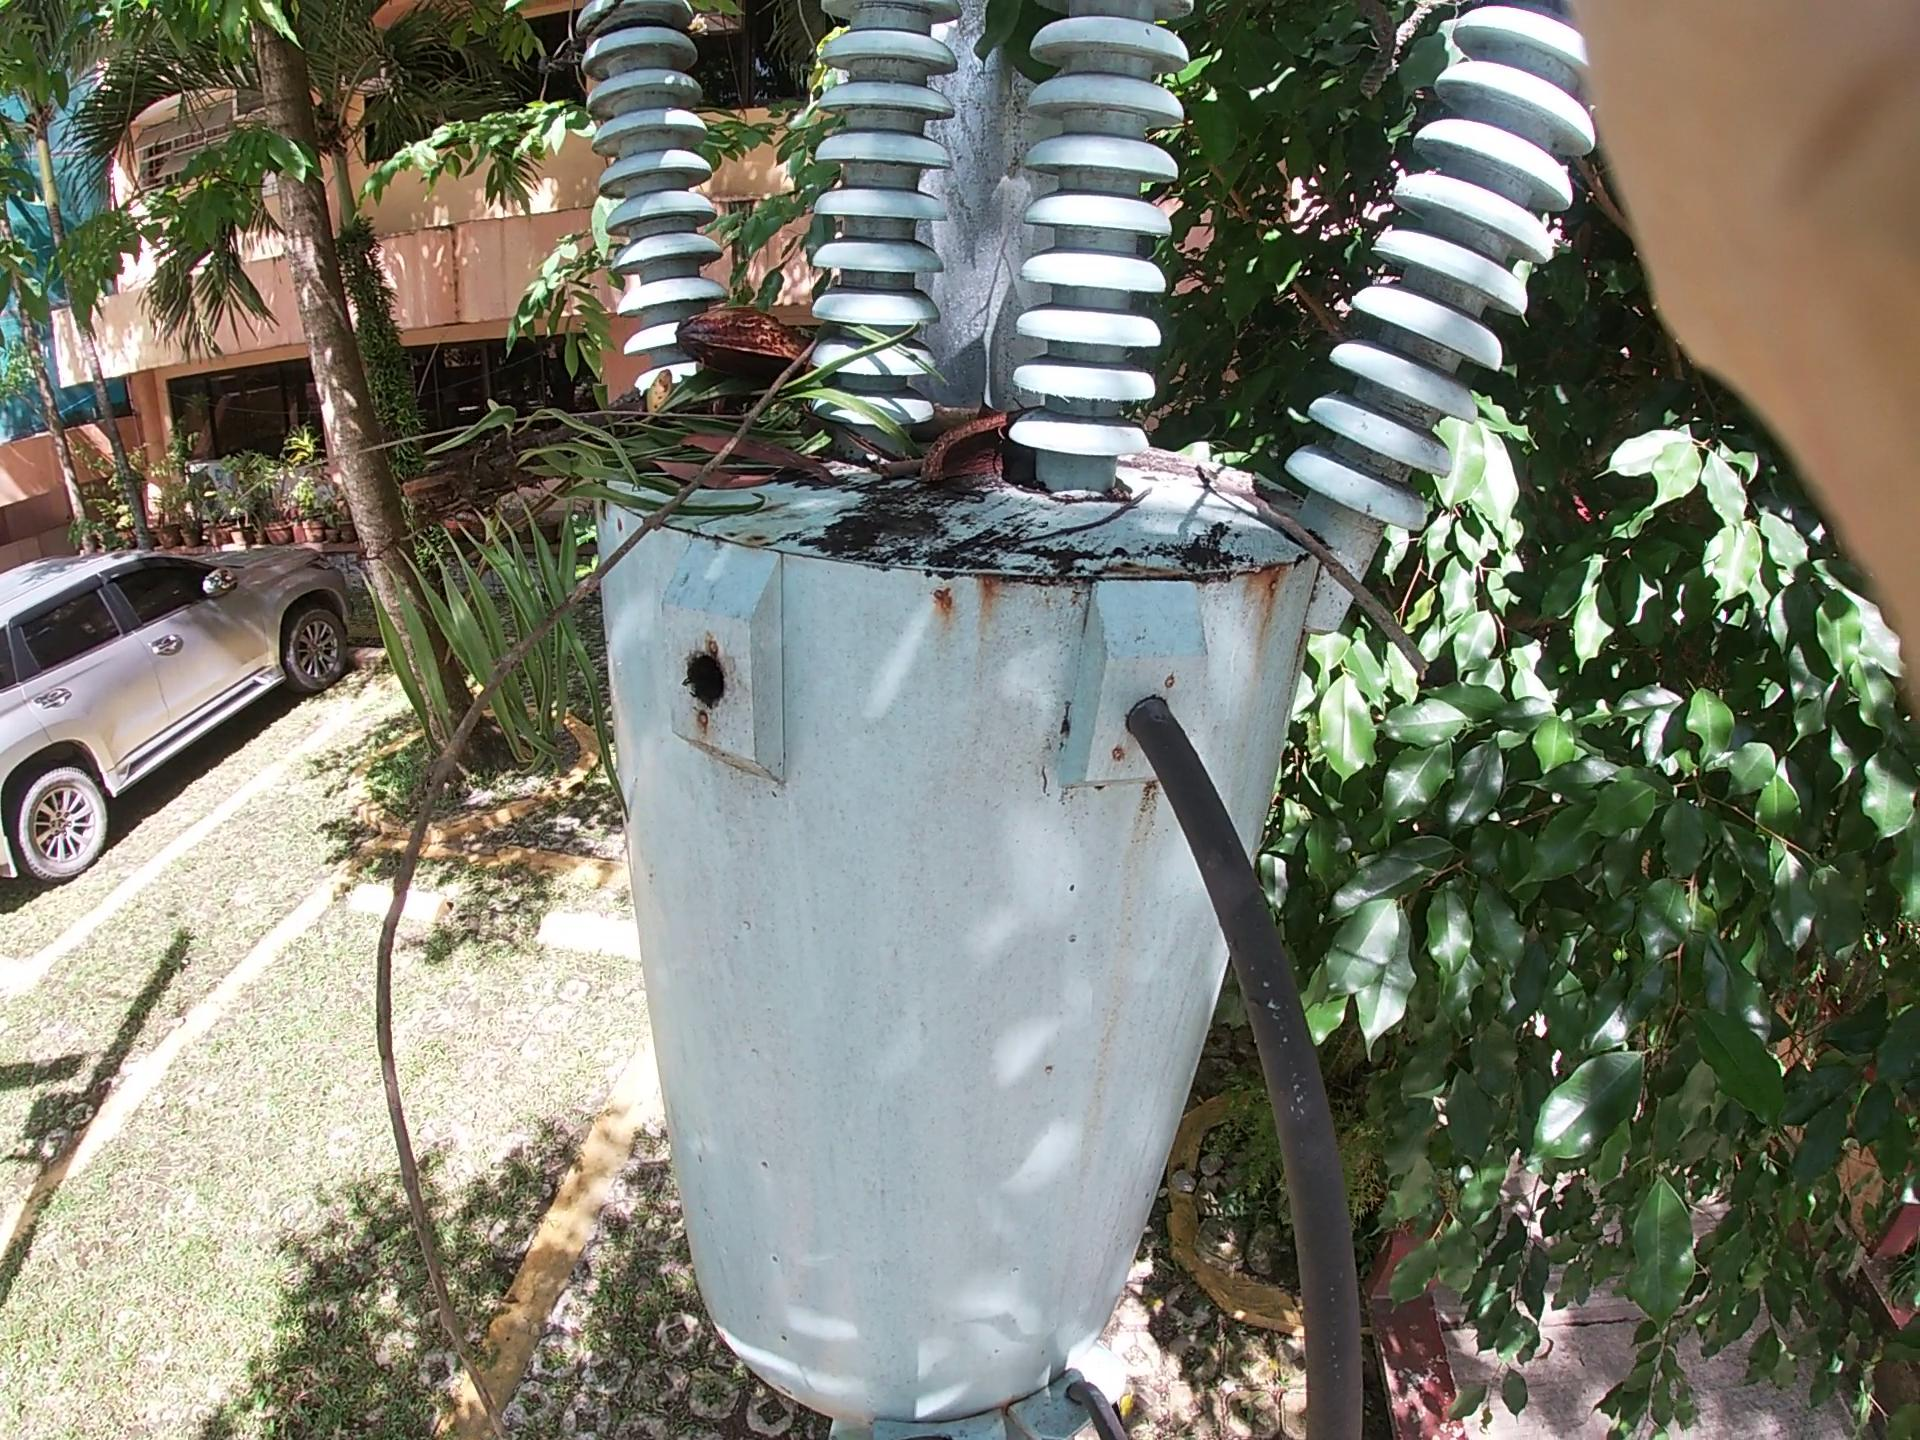branch with leaves: (413, 215, 859, 691)
leaf: (689, 386, 812, 532)
mahogany fruit: (872, 384, 1048, 537), (639, 256, 791, 375)
tree branch: (425, 346, 754, 1044), (1179, 417, 1398, 687), (872, 417, 1085, 522)
